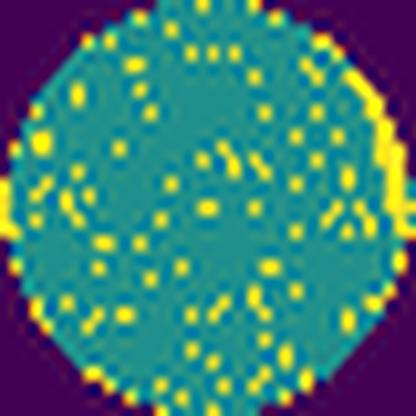Edge-Loc: (344, 69, 416, 238)
